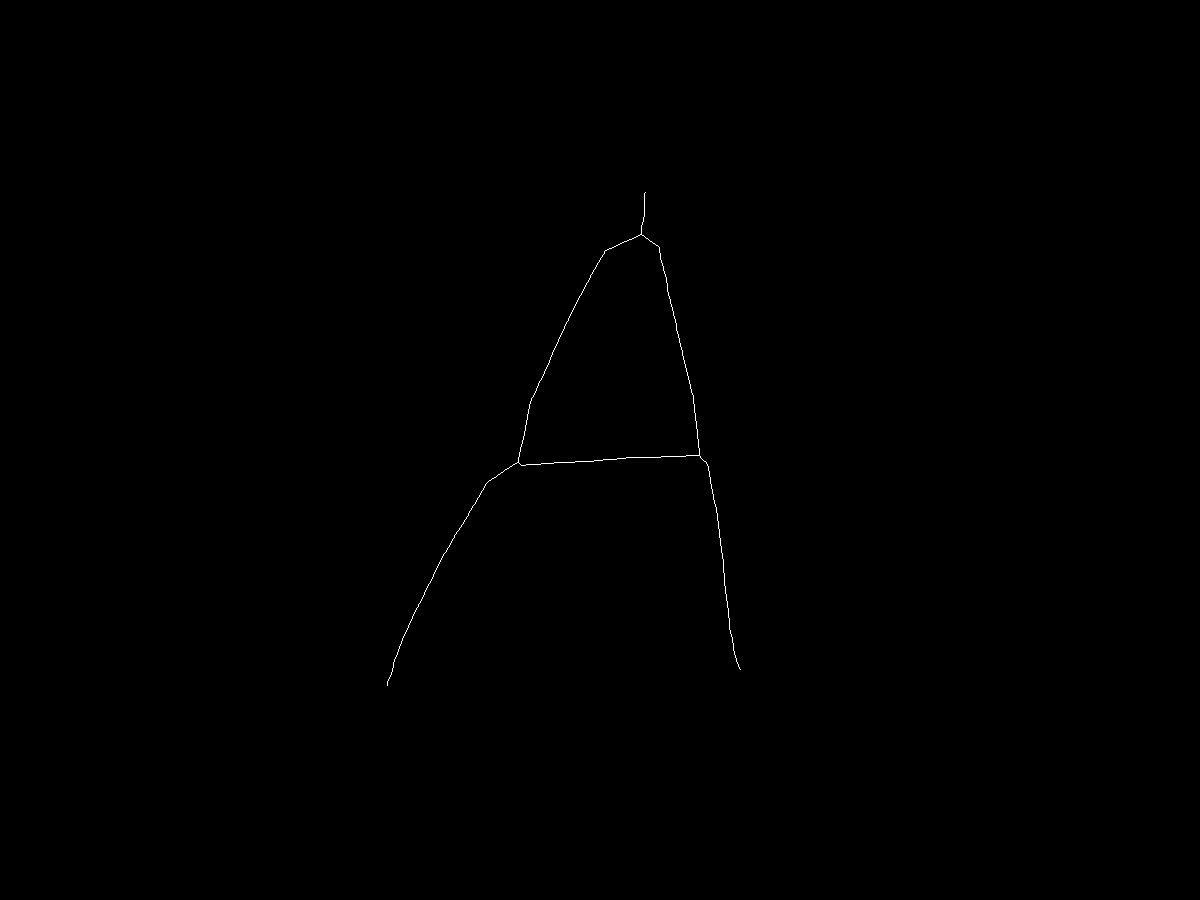dian1: (634, 228, 649, 243)
dian2: (506, 448, 531, 473)
dian3: (381, 680, 394, 693)
dian4: (694, 450, 709, 465)
dian5: (730, 664, 744, 678)
